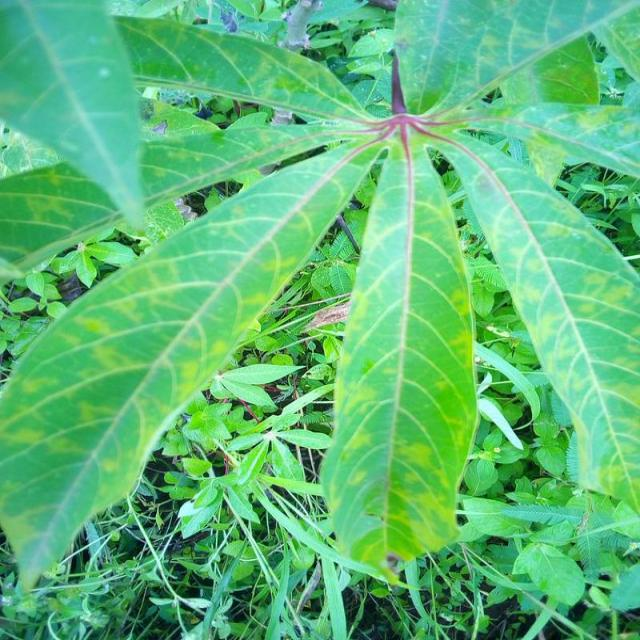cassava leaf: (0, 1, 638, 603), (0, 132, 383, 595), (422, 126, 640, 517), (318, 129, 480, 584)
